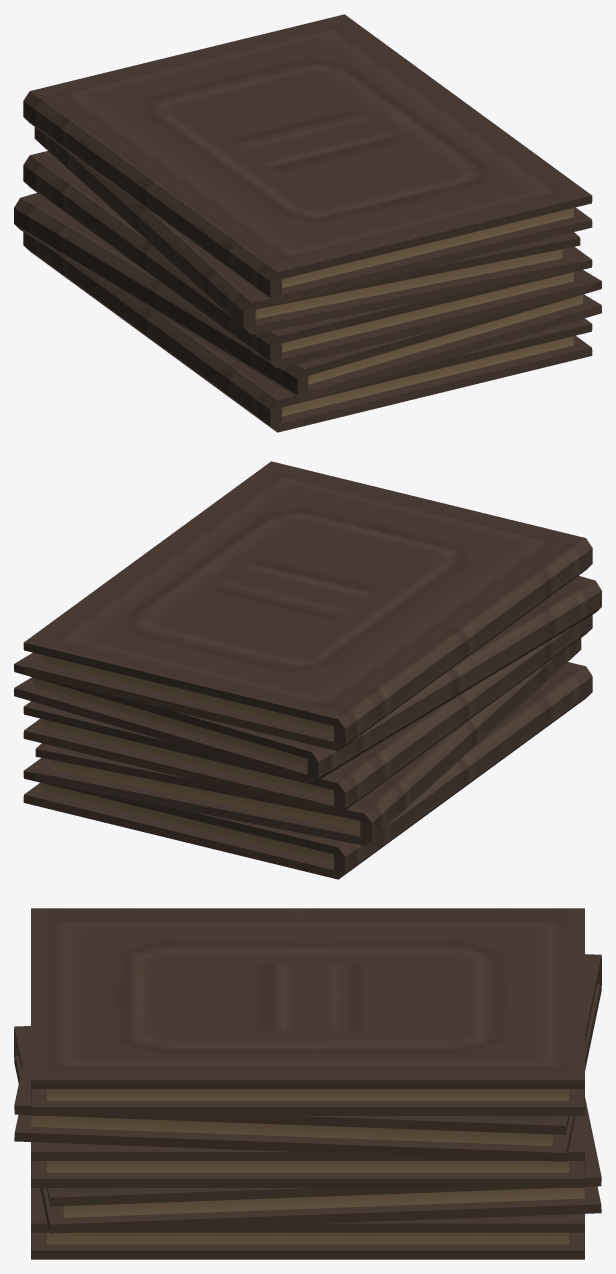
The model's file is Libro_2_Prop.fbx.
3 views of the same model, one above another, from view 1: azimuth 30°, elevation 25°; view 2: azimuth 150°, elevation 25°; view 3: azimuth 270°, elevation 25° (orthographic). The views are drawn at different scales.
Visible parts, largest first — view 1: Libro_2.004, Libro_2.001, Libro_2.002, Libro_2, Libro_2.003; view 2: Libro_2.004, Libro_2.003, Libro_2, Libro_2.002, Libro_2.001; view 3: Libro_2.004, Libro_2.003, Libro_2.001, Libro_2, Libro_2.002.
Boxes of the visible parts, x1,y1,x2,y2 form: Libro_2.004: (23, 14, 592, 304); Libro_2.001: (14, 193, 601, 401); Libro_2.002: (23, 151, 592, 368); Libro_2: (23, 232, 592, 432); Libro_2.003: (34, 127, 580, 334); Libro_2.004: (23, 461, 592, 751); Libro_2.003: (14, 575, 601, 784); Libro_2: (23, 662, 592, 879); Libro_2.002: (23, 615, 592, 815); Libro_2.001: (35, 638, 581, 845); Libro_2.004: (31, 908, 584, 1115); Libro_2.003: (14, 954, 601, 1161); Libro_2.001: (14, 1026, 601, 1233); Libro_2: (31, 1188, 584, 1259); Libro_2.002: (31, 1116, 584, 1187).
Bounding box in the file's own units: 23.36 × 10 × 29.71.
Materials: 1 (1 with a texture image).
